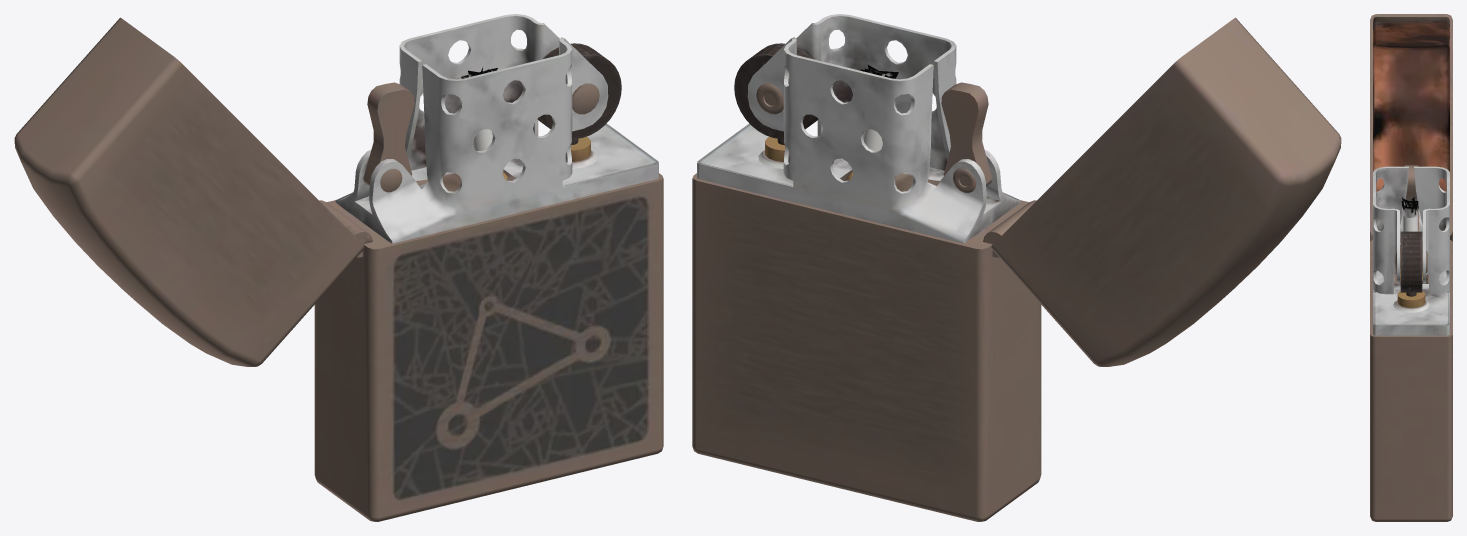
The model's file is vintage_lighter.glb.
3 renders of one model, left to right at view 1: azimuth 30°, elevation 25°; view 2: azimuth 150°, elevation 25°; view 3: azimuth 270°, elevation 25°, orthographic. The views are drawn at different scales.
Visible parts, largest first — view 1: vintage_lighter_body, vintage_lighter_hinge, vintage_lighter_hammer, vintage_lighter_flintstone; view 2: vintage_lighter_body, vintage_lighter_hinge, vintage_lighter_hammer, vintage_lighter_flintstone; view 3: vintage_lighter_body, vintage_lighter_hinge, vintage_lighter_flintstone, vintage_lighter_hammer.
Part boxes in pixels (x1,y1,x2,y2): vintage_lighter_body: [314, 14, 663, 521]; vintage_lighter_hinge: [14, 17, 372, 366]; vintage_lighter_hammer: [363, 82, 414, 192]; vintage_lighter_flintstone: [537, 43, 621, 138]; vintage_lighter_body: [692, 14, 1041, 521]; vintage_lighter_hinge: [983, 17, 1341, 366]; vintage_lighter_hammer: [941, 82, 992, 192]; vintage_lighter_flintstone: [734, 43, 818, 138]; vintage_lighter_body: [1370, 166, 1452, 521]; vintage_lighter_hinge: [1370, 14, 1452, 241]; vintage_lighter_flintstone: [1395, 231, 1427, 292]; vintage_lighter_hammer: [1404, 165, 1418, 224].
Bounding box in the file's own units: 0.0796 × 0.065 × 0.014.
Materials: 2 (2 with a texture image).
